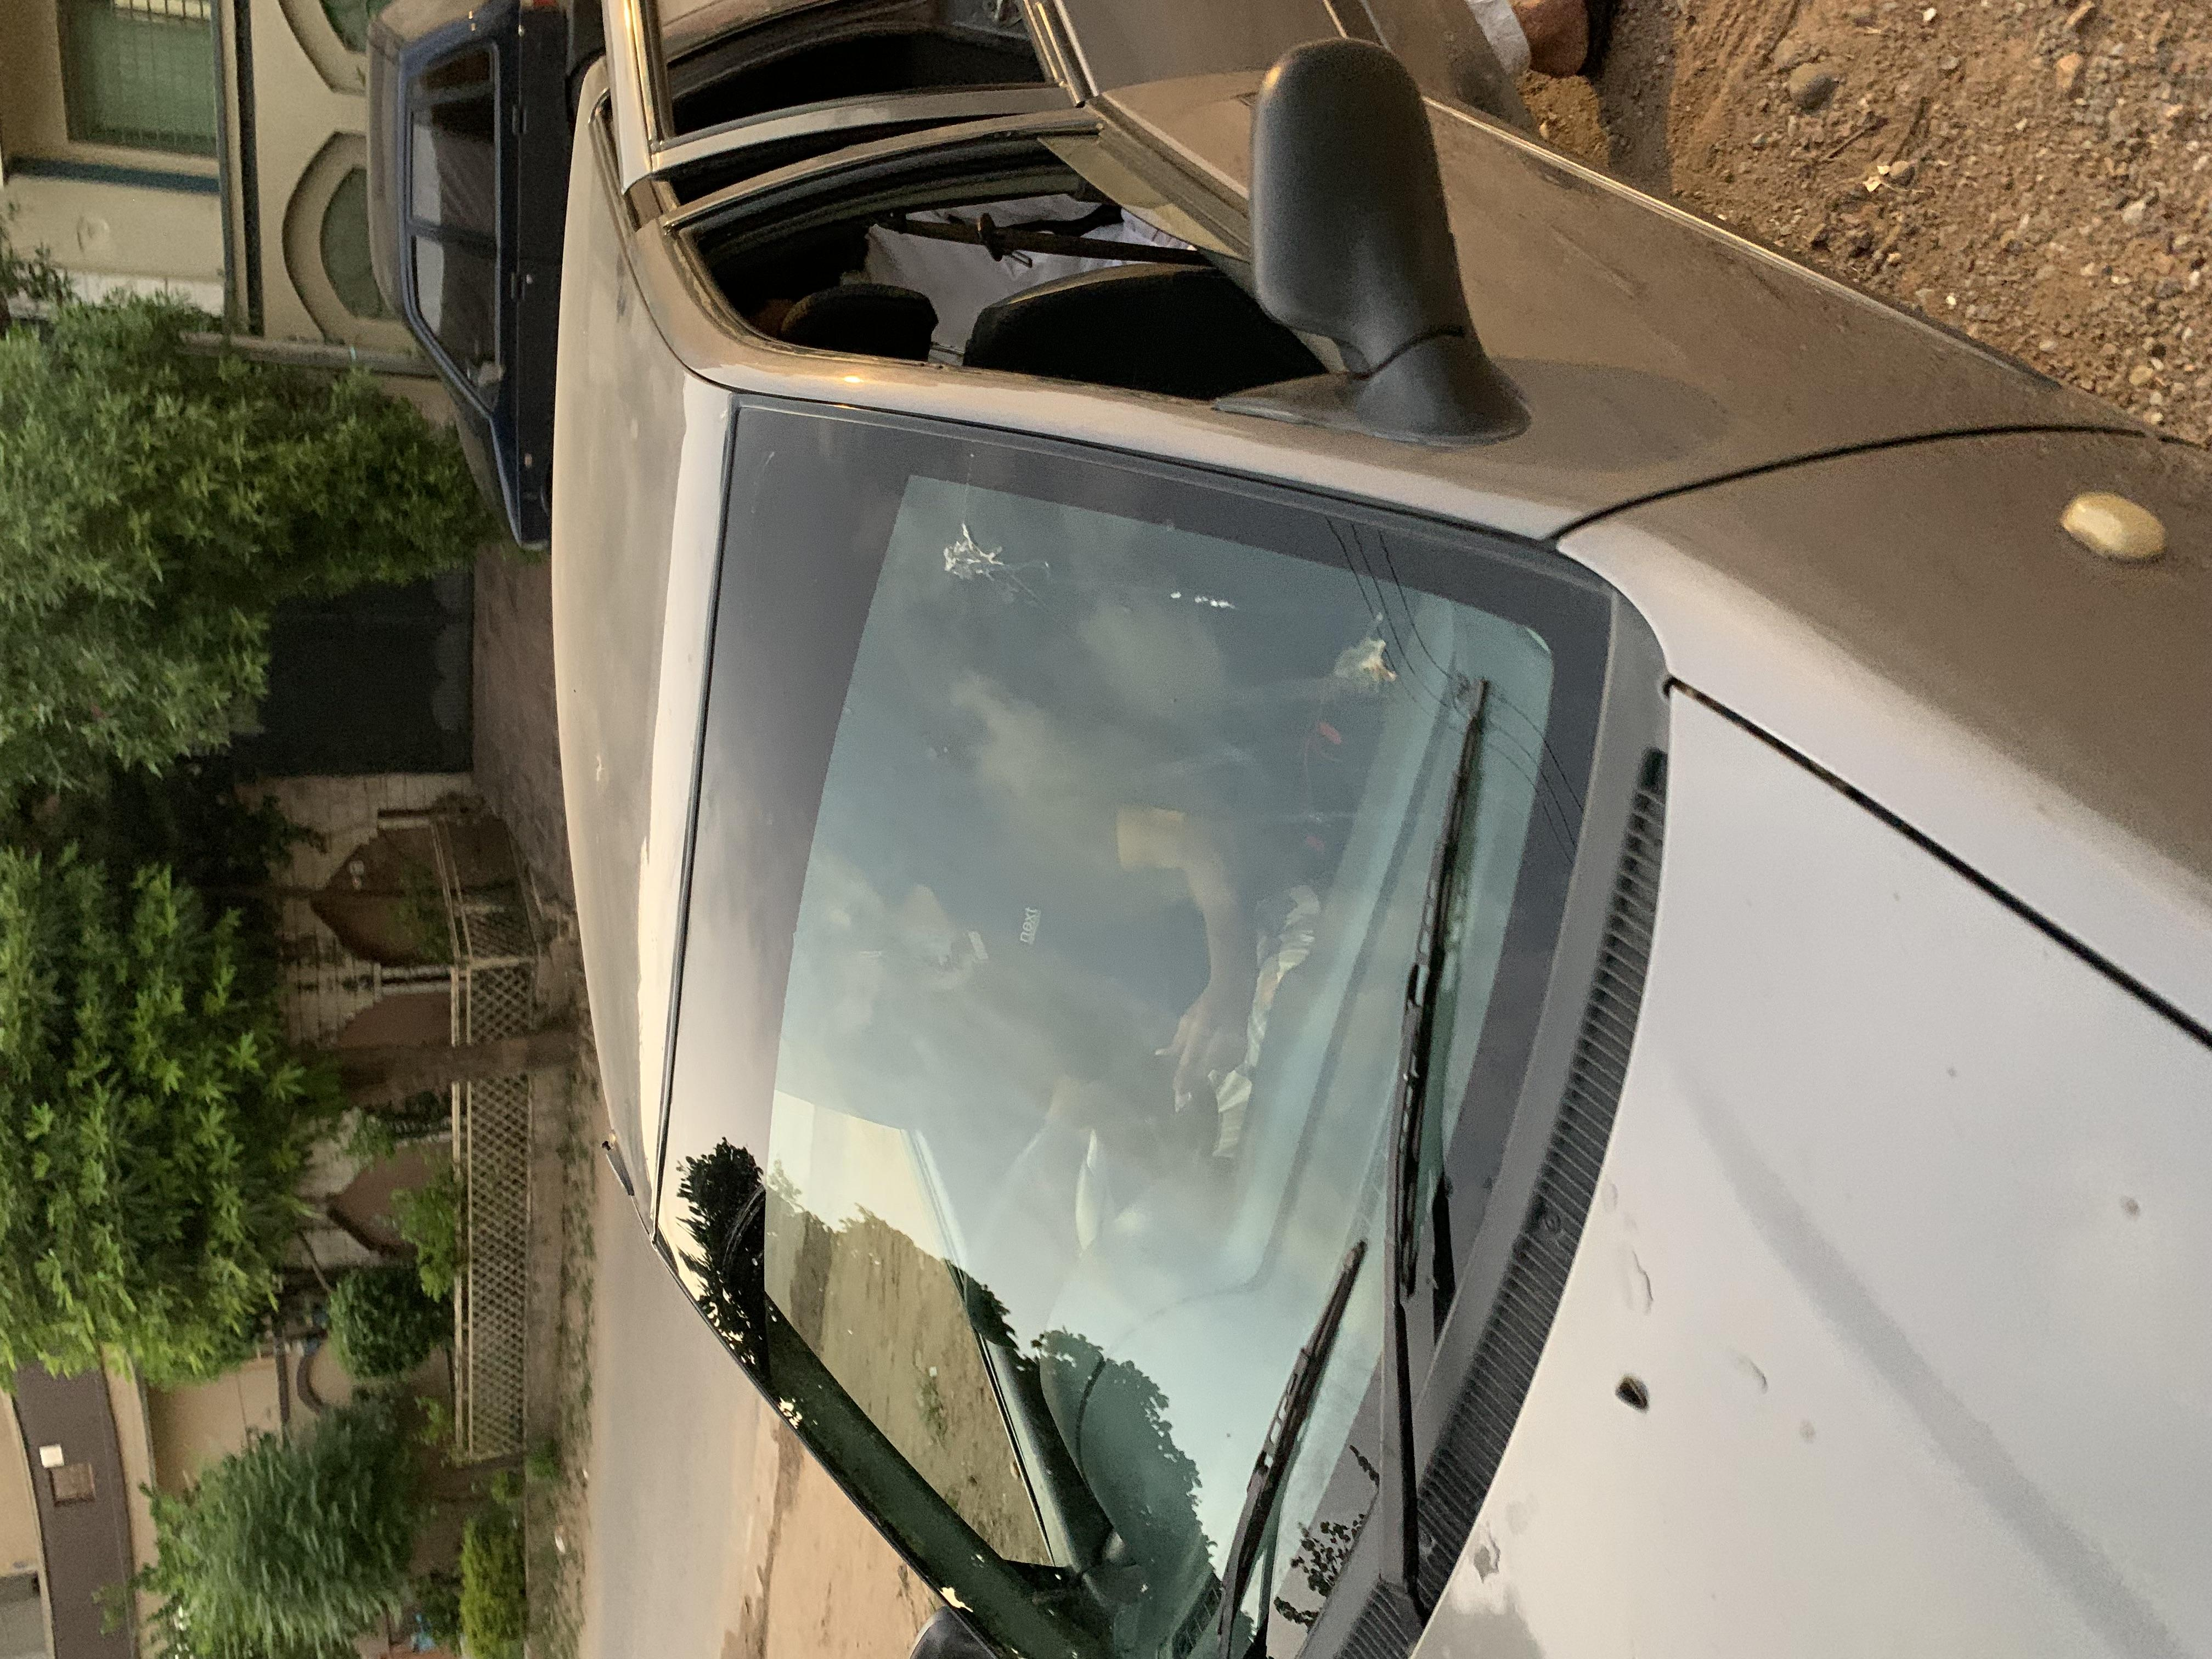windshield: (0, 457, 1663, 1300)
